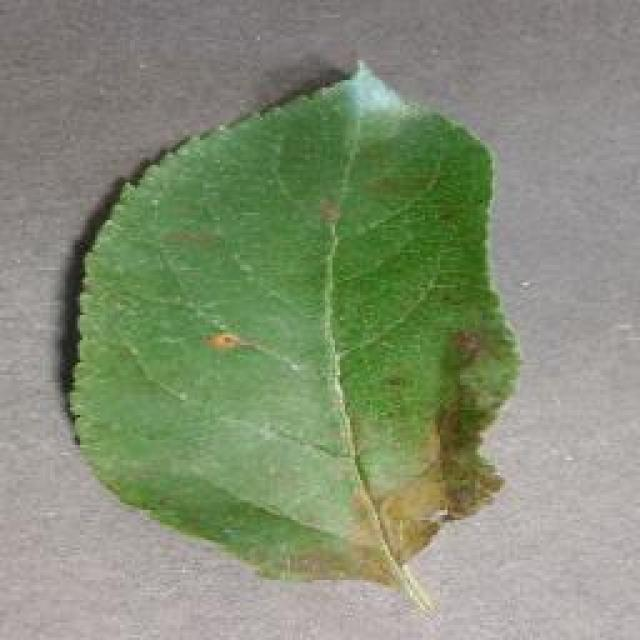apple healthy: (62, 58, 522, 610)
